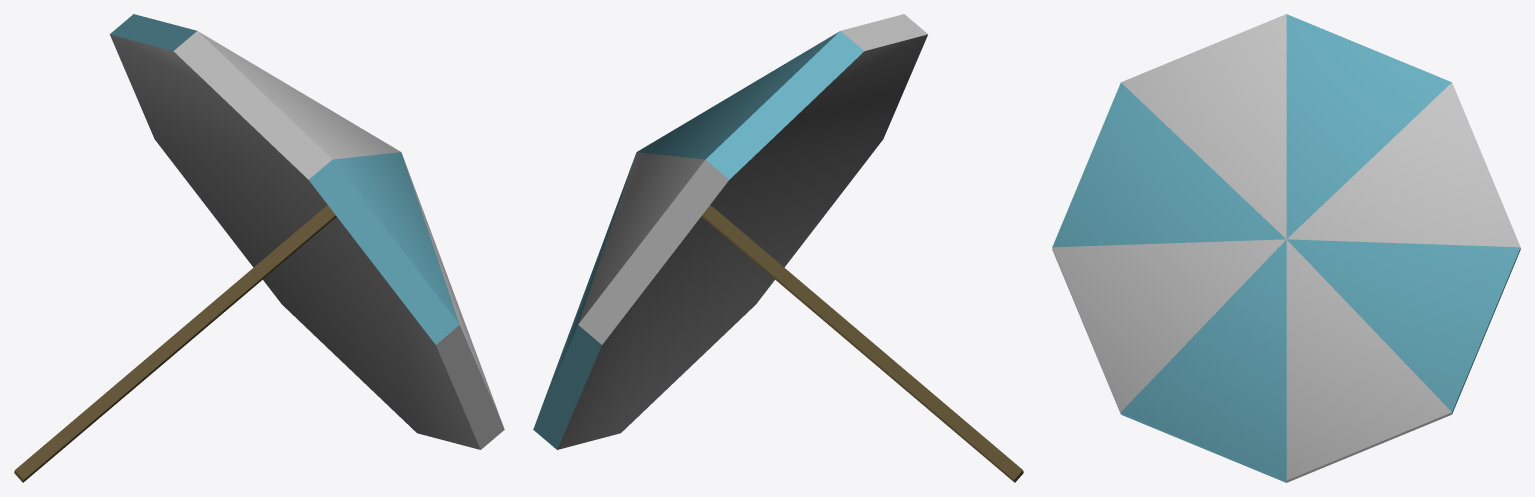
File: obs_large_umbrella.fbx
3 views of the same model, side by side, from view 1: azimuth 30°, elevation 25°; view 2: azimuth 150°, elevation 25°; view 3: azimuth 270°, elevation 25° (orthographic). The views are drawn at different scales.
Parts seen in each view (by area): view 1: pCylinder56; view 2: pCylinder56; view 3: pCylinder56.
Part boxes in pixels (x1=…): pCylinder56: x1=14, y1=14, x2=504, y2=482; pCylinder56: x1=533, y1=14, x2=1023, y2=482; pCylinder56: x1=1052, y1=14, x2=1520, y2=482.
Bounding box in the file's own units: 4.17 × 4.26 × 4.77.
